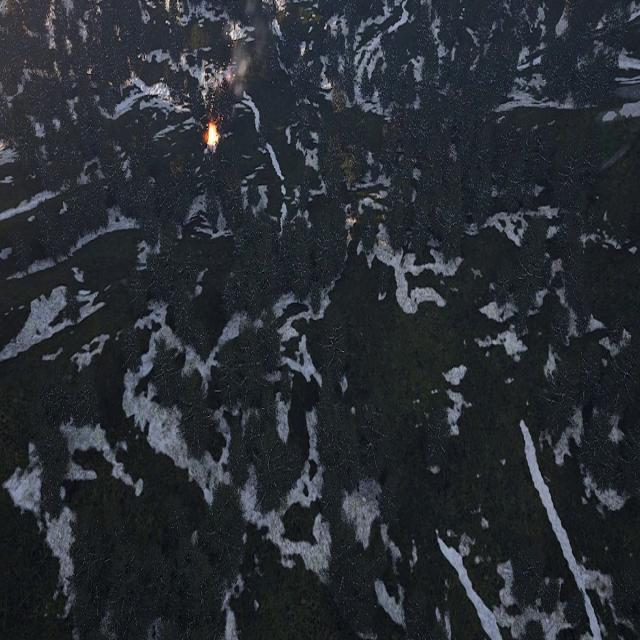fire: (207, 124, 219, 147)
smoke: (228, 1, 278, 102)
